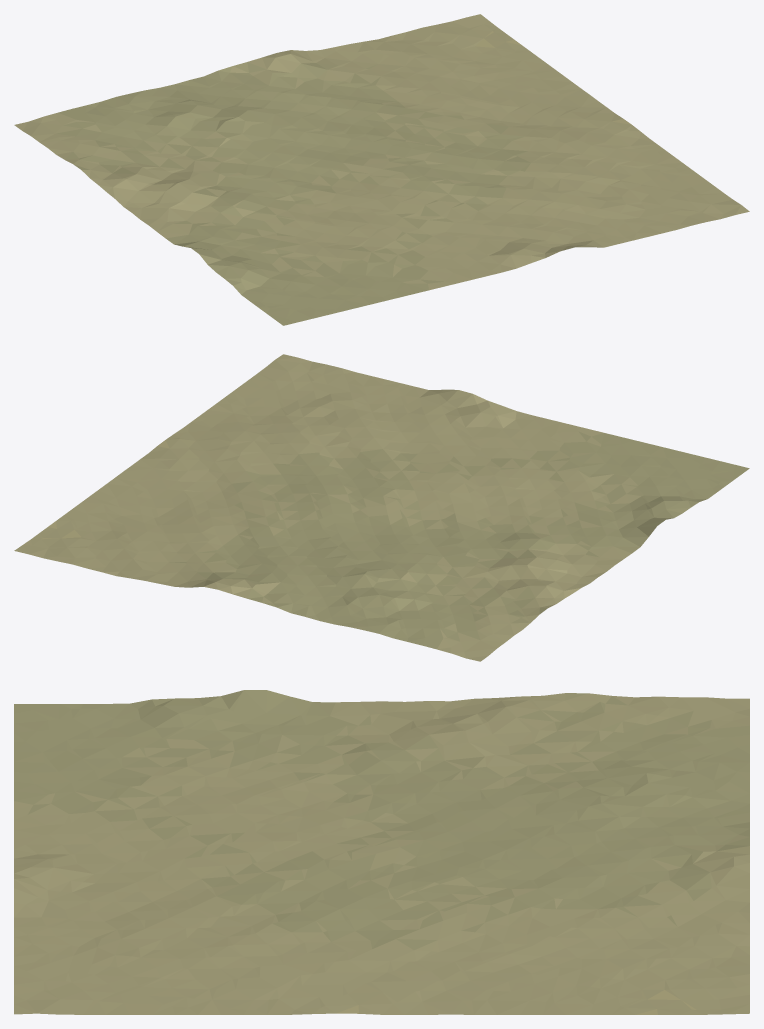
File: Ground_5_-1.glb
The picture shows the model from 3 angles, top to bottom: view 1: azimuth 30°, elevation 25°; view 2: azimuth 150°, elevation 25°; view 3: azimuth 270°, elevation 25°; orthographic projection. The views are drawn at different scales.
Visible parts, largest first — view 1: Ground_5_-1; view 2: Ground_5_-1; view 3: Ground_5_-1.
Boxes of the visible parts, x1,y1,x2,y2 form: Ground_5_-1: (14, 14, 749, 325); Ground_5_-1: (14, 354, 749, 661); Ground_5_-1: (14, 690, 749, 1014).
Size of the model in its own units: 768 by 20.63 by 768.
